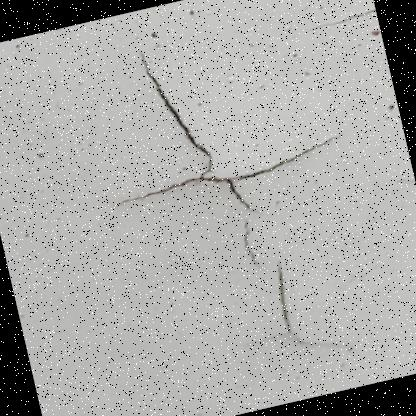Crack: (59, 0, 365, 275), (212, 239, 378, 406), (285, 0, 383, 63), (210, 210, 287, 289), (371, 158, 415, 217)
